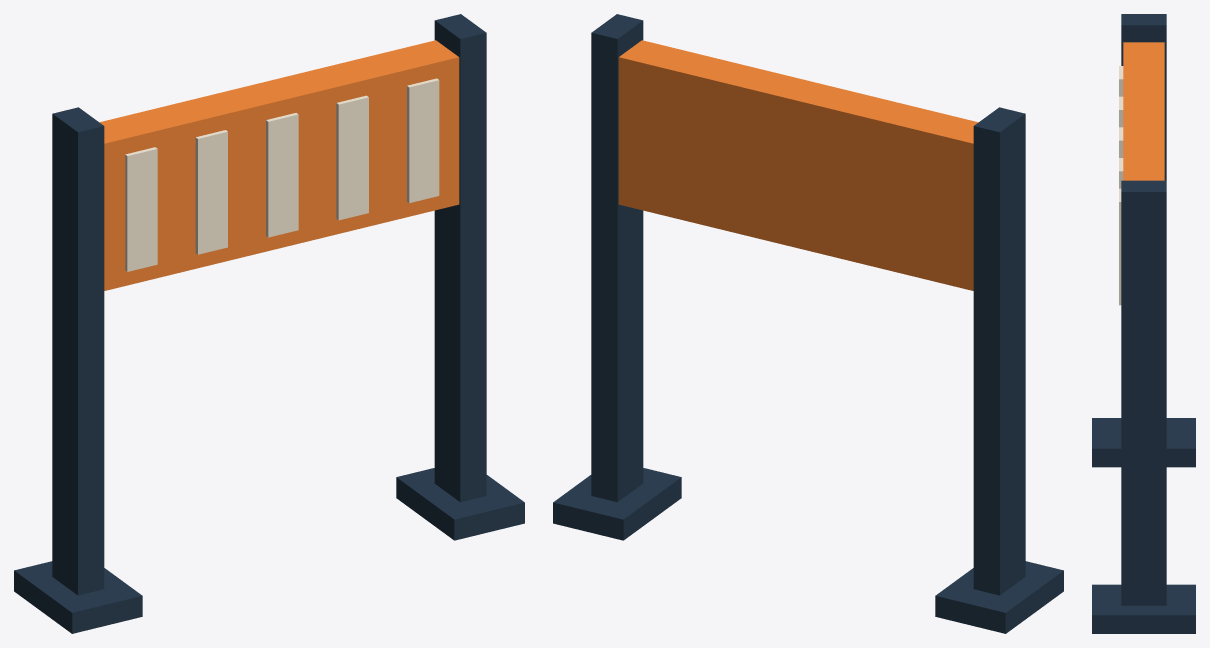
File: 27_overhead_sign.obj
3 renders of one model, left to right at view 1: azimuth 30°, elevation 25°; view 2: azimuth 150°, elevation 25°; view 3: azimuth 270°, elevation 25°, orthographic. The views are drawn at different scales.
Parts seen in each view (by area): view 1: part_4, part_0, part_2, part_3, part_1, part_5, part_7, part_8, part_9, part_6; view 2: part_4, part_0, part_2, part_3, part_1; view 3: part_2, part_4, part_3, part_1, part_0, part_9.
Boxes of the visible parts, bbox=[...] form: part_4: bbox=[99, 40, 459, 290]; part_0: bbox=[52, 107, 104, 595]; part_2: bbox=[434, 14, 486, 502]; part_3: bbox=[396, 468, 524, 540]; part_1: bbox=[14, 561, 142, 633]; part_5: bbox=[125, 147, 157, 271]; part_7: bbox=[266, 113, 298, 237]; part_8: bbox=[336, 95, 368, 220]; part_9: bbox=[407, 78, 439, 203]; part_6: bbox=[195, 130, 227, 254]; part_4: bbox=[618, 40, 978, 290]; part_0: bbox=[973, 107, 1025, 595]; part_2: bbox=[591, 14, 643, 502]; part_3: bbox=[553, 468, 681, 540]; part_1: bbox=[935, 561, 1063, 633]; part_2: bbox=[1121, 180, 1166, 605]; part_4: bbox=[1123, 42, 1164, 180]; part_3: bbox=[1092, 584, 1195, 633]; part_1: bbox=[1092, 418, 1195, 467]; part_0: bbox=[1121, 14, 1166, 180]; part_9: bbox=[1119, 188, 1121, 305].
Bounding box in the file's own units: 2.25 × 2.3 × 0.5.
